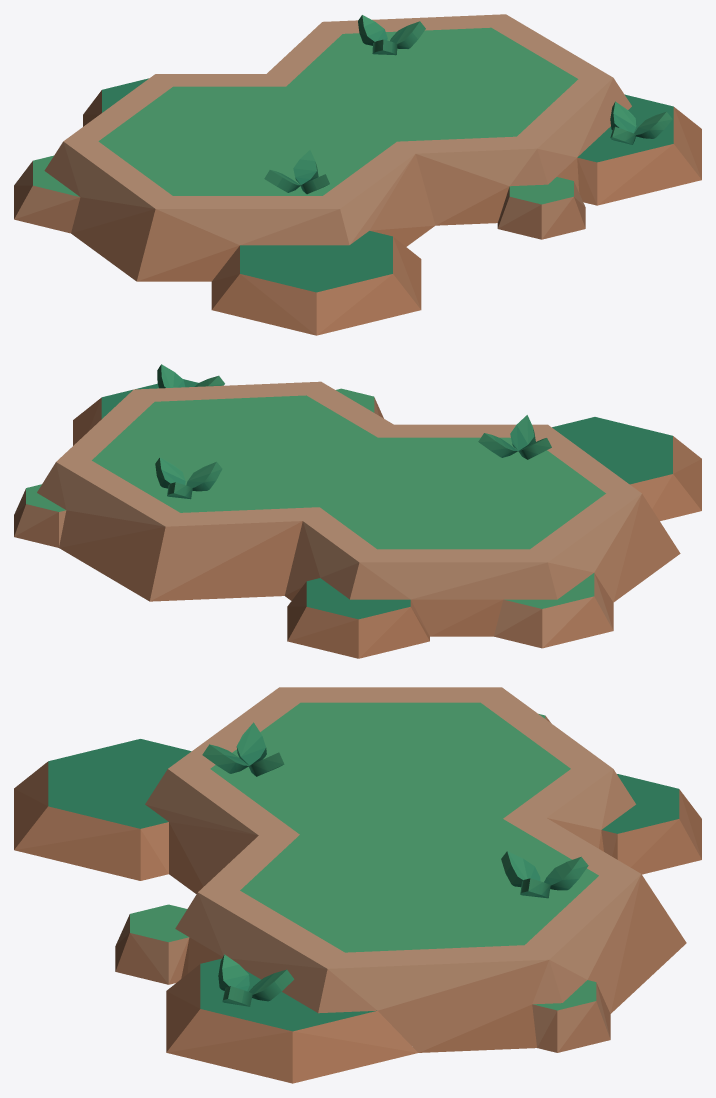
The model's file is survival_rock_flat_grass.glb.
The picture shows the model from 3 angles, top to bottom: view 1: azimuth 30°, elevation 25°; view 2: azimuth 150°, elevation 25°; view 3: azimuth 270°, elevation 25°; orthographic projection. The views are drawn at different scales.
Parts seen in each view (by area): view 1: survival_rock_flat_grass; view 2: survival_rock_flat_grass; view 3: survival_rock_flat_grass.
Boxes of the visible parts, bbox=[...] form: survival_rock_flat_grass: bbox=[14, 14, 701, 335]; survival_rock_flat_grass: bbox=[14, 364, 701, 658]; survival_rock_flat_grass: bbox=[14, 687, 701, 1083].
Size of the model in its own units: 1.79 by 0.2258 by 1.45.
